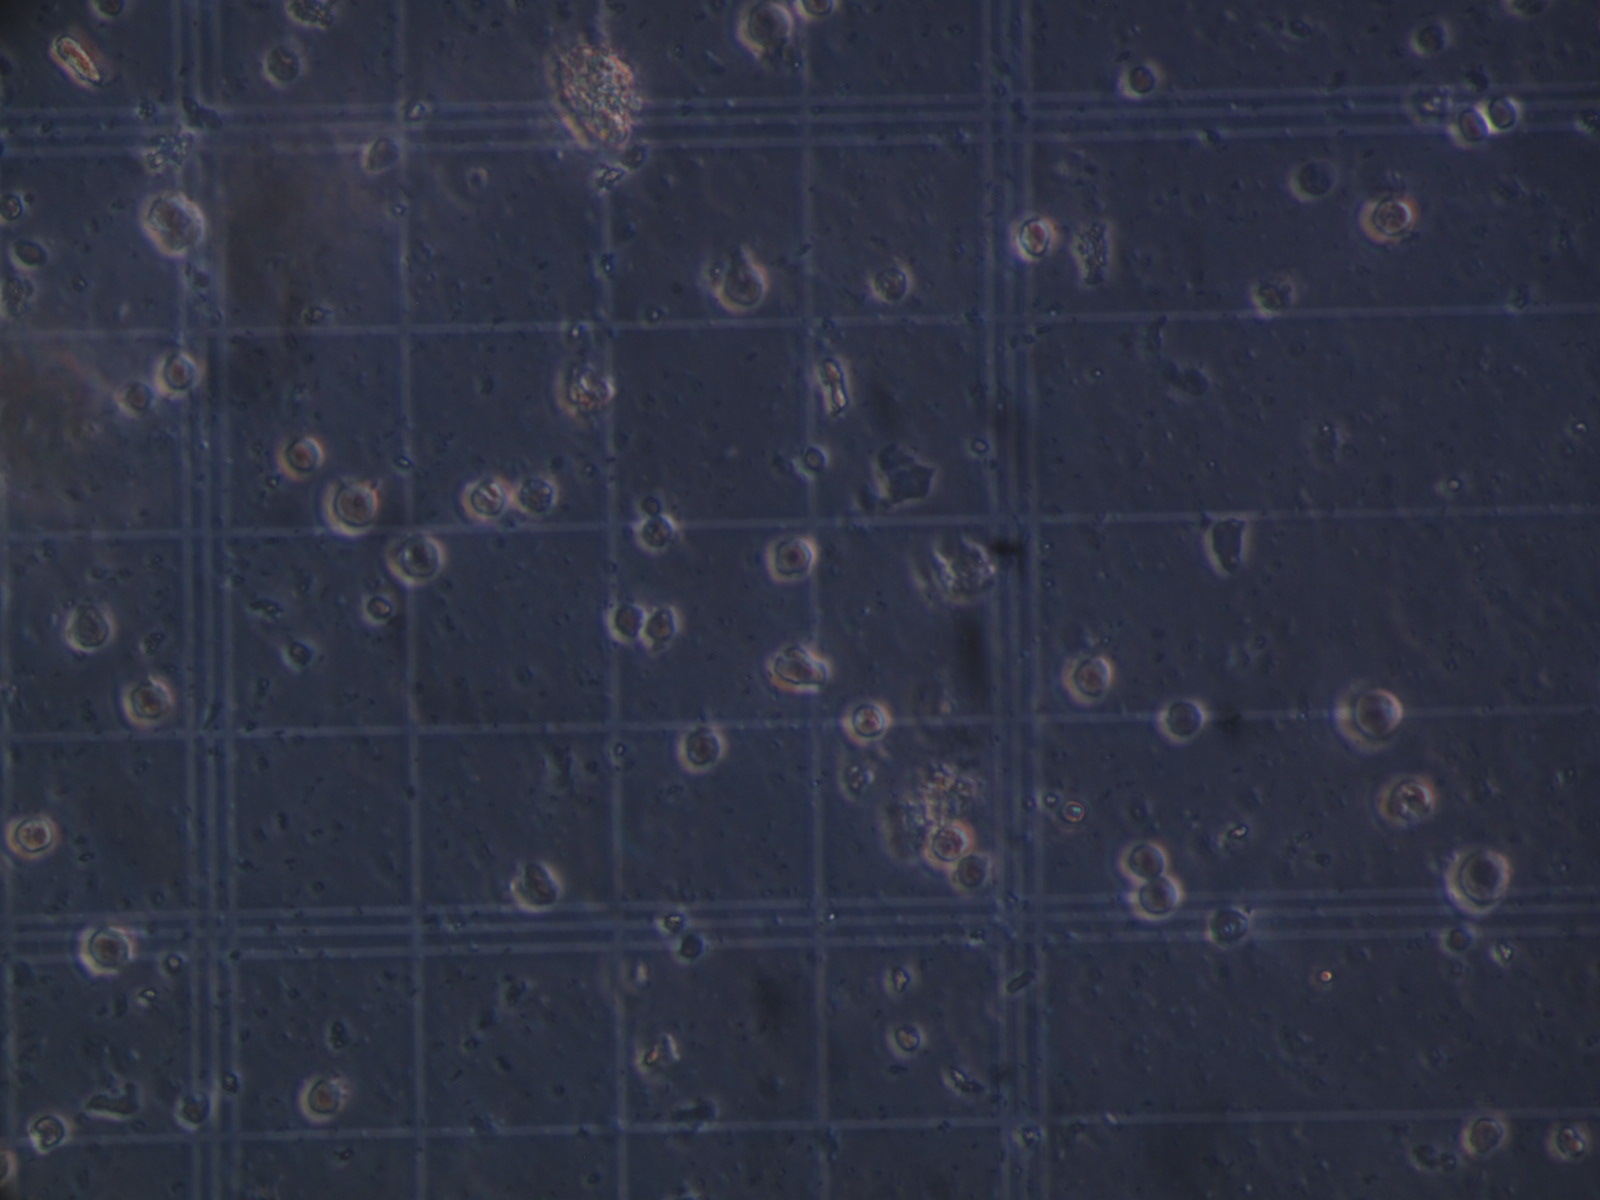hemo: (917, 528, 994, 603), (1335, 679, 1403, 755), (1444, 846, 1511, 918), (144, 192, 207, 255), (766, 642, 831, 695), (323, 478, 380, 537), (1376, 769, 1434, 828), (388, 529, 443, 587), (78, 921, 134, 976), (121, 676, 176, 729), (738, 1, 792, 53), (511, 858, 562, 913), (718, 258, 769, 313), (678, 722, 729, 774), (923, 821, 975, 871), (1362, 195, 1417, 242), (1128, 877, 1186, 921), (763, 534, 818, 581), (66, 605, 116, 654), (5, 813, 59, 858), (155, 349, 203, 398), (1065, 655, 1111, 706), (461, 476, 511, 523), (1162, 696, 1209, 744), (842, 697, 892, 742), (1290, 154, 1338, 200), (1461, 1111, 1508, 1158), (261, 42, 307, 89), (278, 434, 324, 482), (301, 1073, 346, 1121), (1015, 212, 1056, 262), (509, 475, 559, 516), (1119, 839, 1169, 879), (1209, 904, 1254, 948), (634, 511, 678, 555), (605, 603, 648, 648), (949, 850, 993, 892), (28, 1112, 71, 1155), (1410, 18, 1453, 59), (643, 604, 683, 648), (871, 263, 913, 304), (1451, 105, 1490, 149), (1120, 61, 1164, 100), (888, 1018, 929, 1060), (173, 1089, 214, 1129), (1482, 93, 1522, 134), (362, 589, 398, 626), (794, 1, 842, 19), (97, 1, 131, 19)
